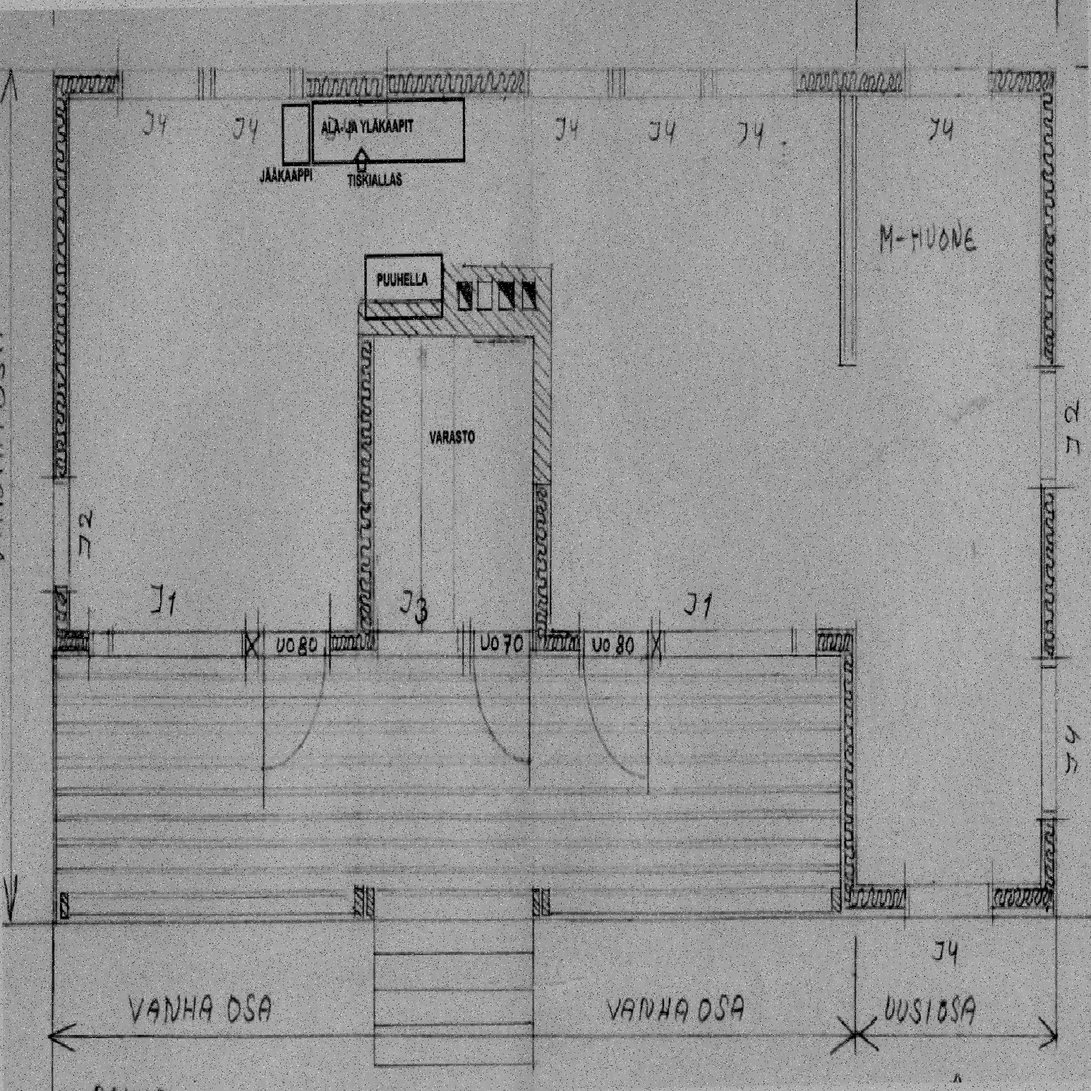wall: (53, 70, 1056, 99), (53, 632, 857, 659), (1041, 70, 1056, 918), (53, 70, 69, 659), (443, 267, 550, 336), (840, 885, 1056, 919), (533, 266, 550, 658), (358, 317, 374, 659), (840, 70, 857, 365), (841, 632, 857, 918), (358, 317, 443, 336), (53, 659, 56, 918)
